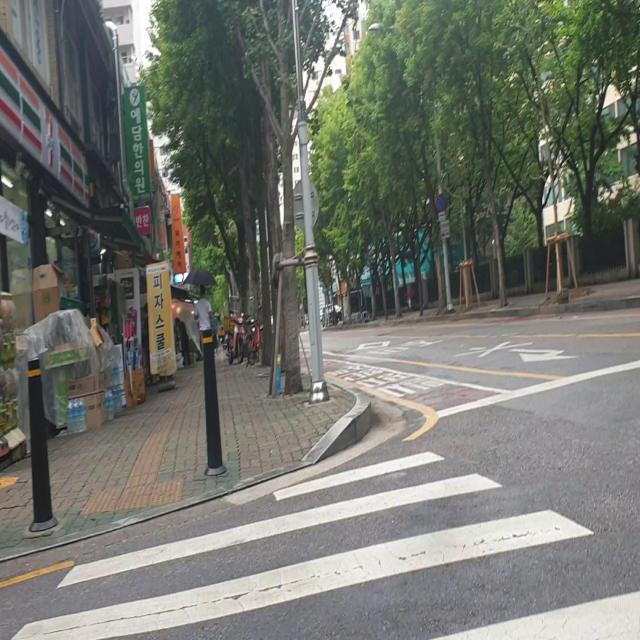횡단보도: (6, 445, 640, 640)
